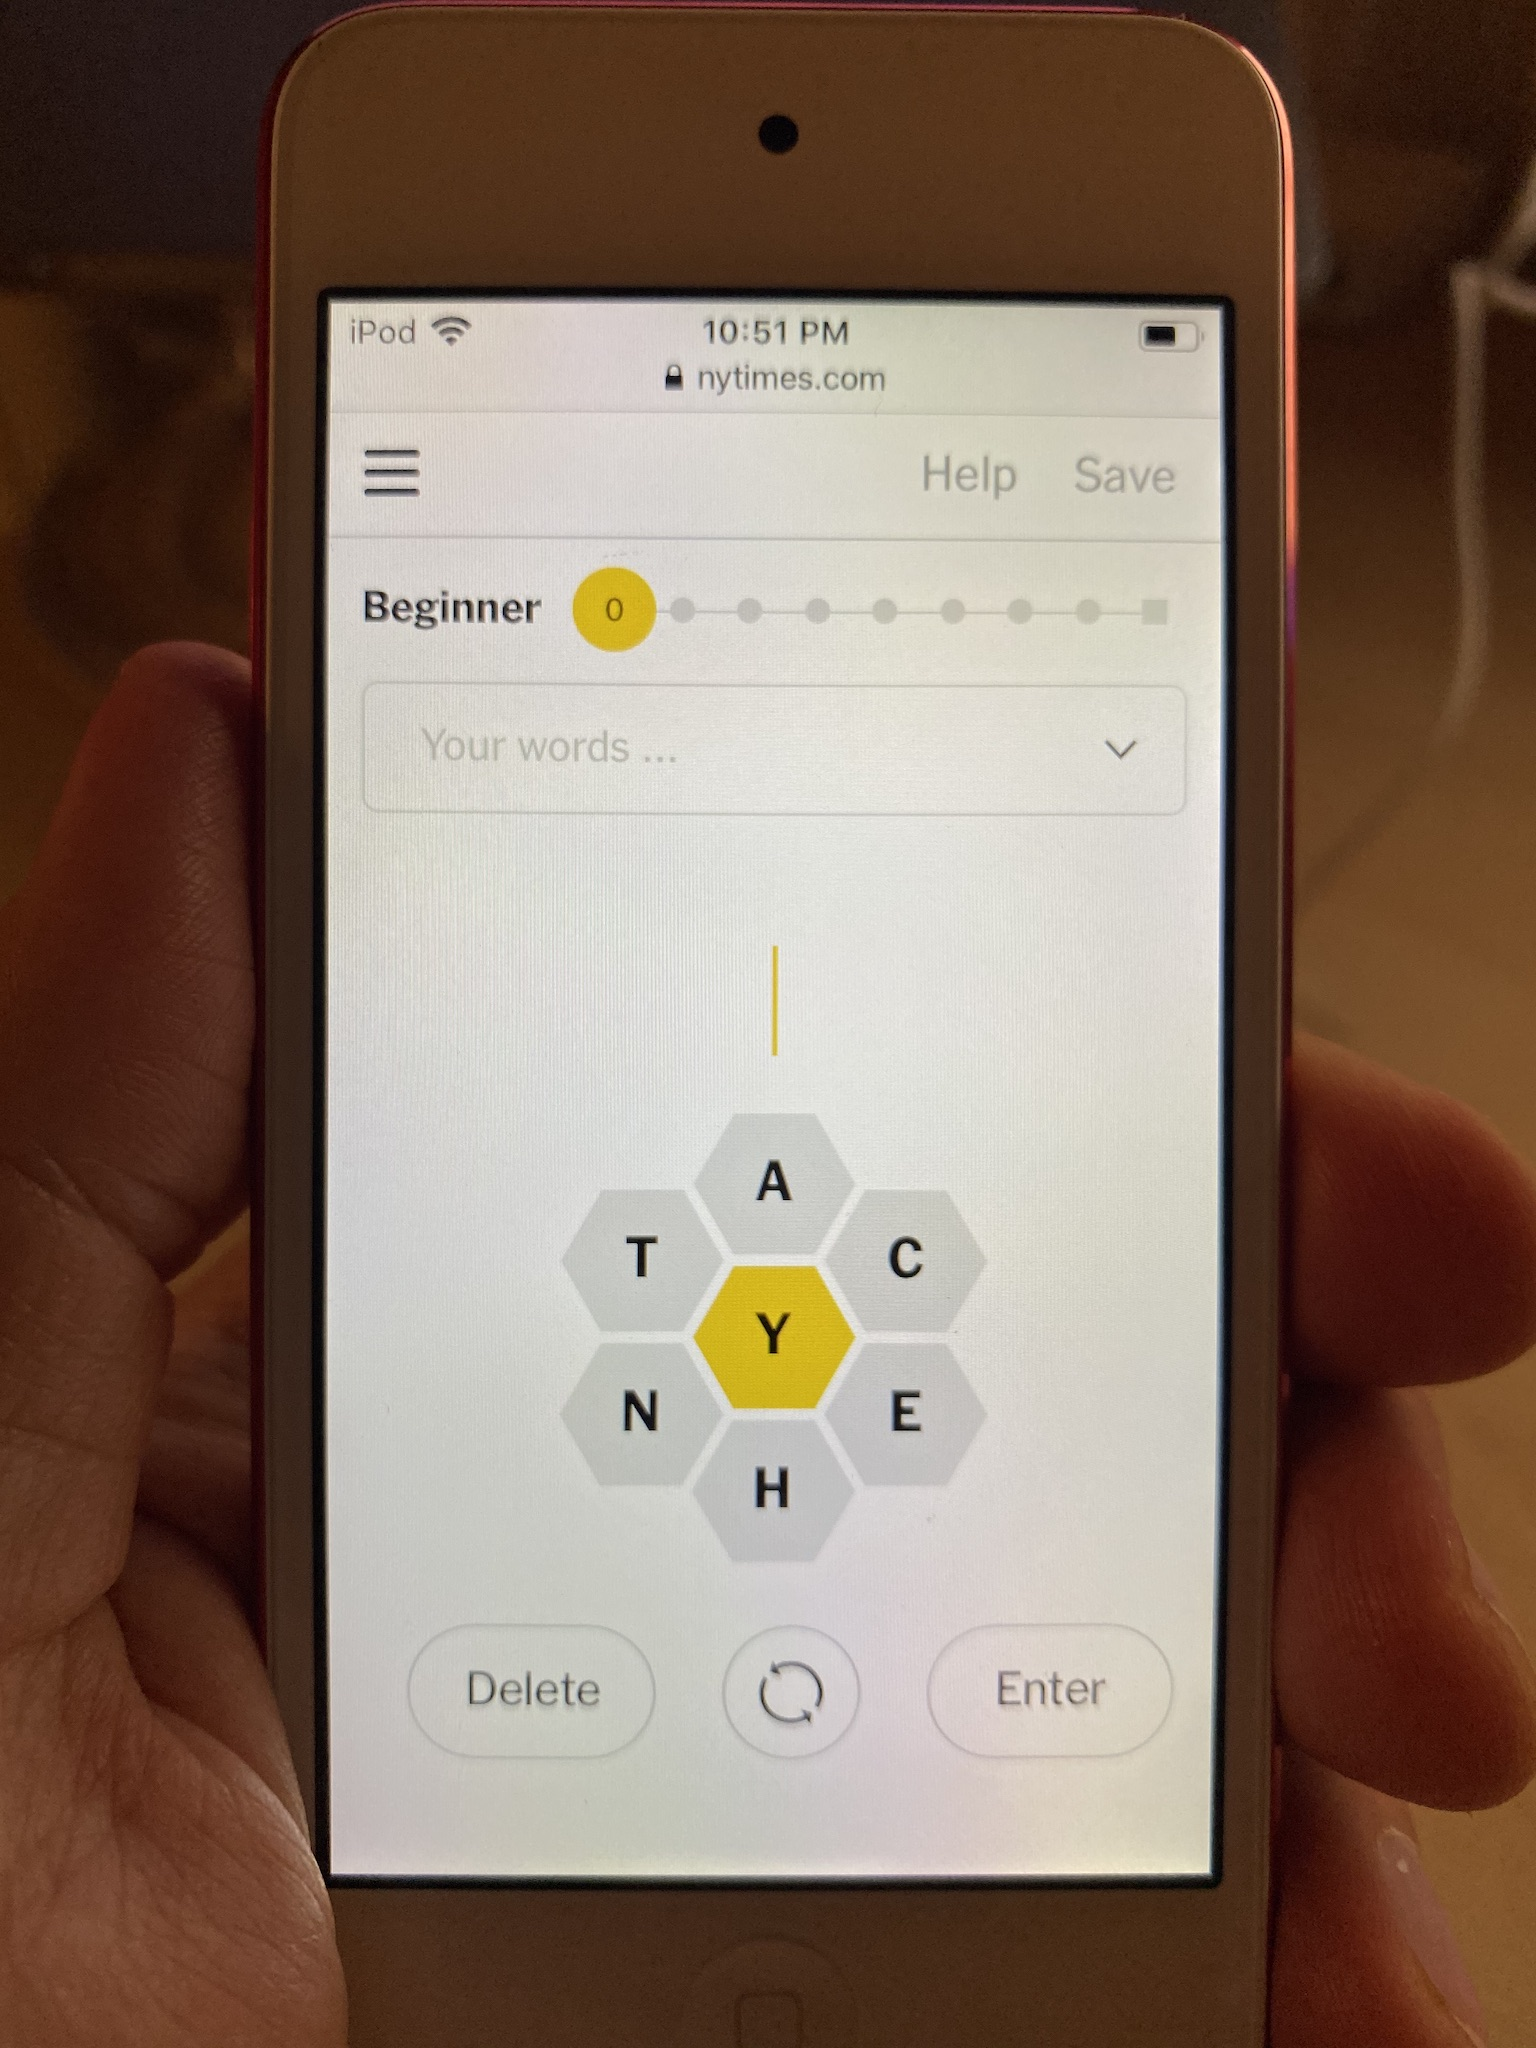Board: (539, 1105, 1021, 1593)
